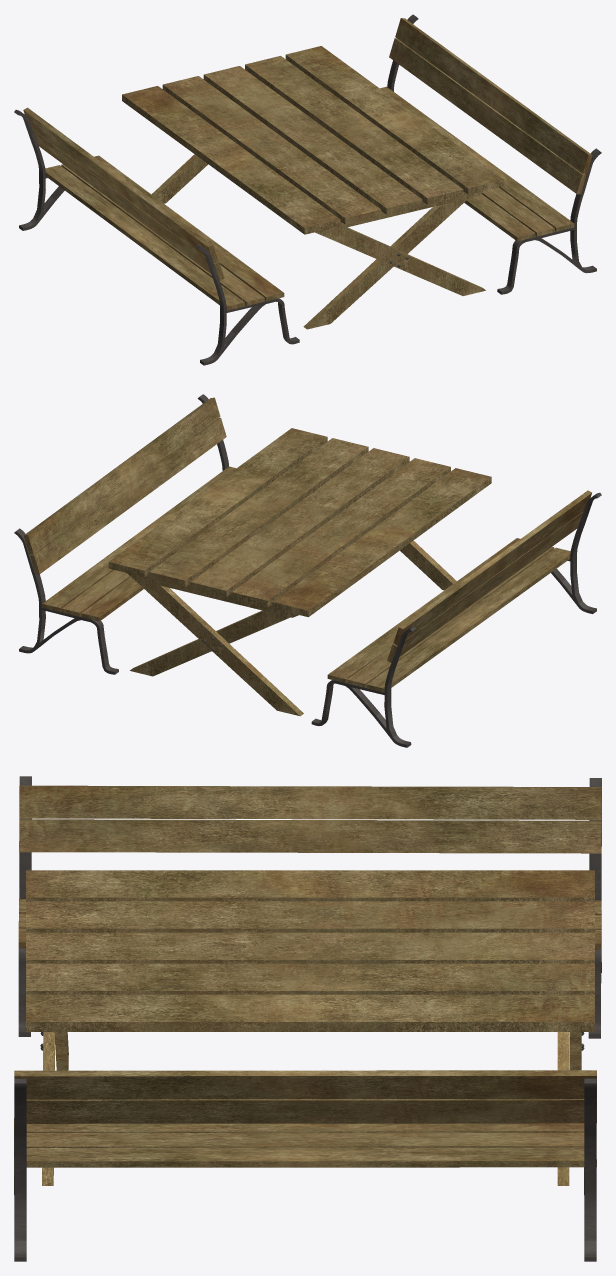
The model's file is WoodenTable.FBX.
3 views of the same model, one above another, from view 1: azimuth 30°, elevation 25°; view 2: azimuth 150°, elevation 25°; view 3: azimuth 270°, elevation 25° (orthographic). The views are drawn at different scales.
Parts seen in each view (by area): view 1: table, bench002, bench003; view 2: table, bench002, bench003; view 3: table, bench002, bench003.
Part boxes in pixels (bbox=[...]): table: bbox=[122, 46, 504, 329]; bench002: bbox=[380, 14, 601, 294]; bench003: bbox=[14, 107, 299, 365]; table: bbox=[108, 428, 491, 716]; bench002: bbox=[14, 394, 236, 674]; bench003: bbox=[311, 490, 601, 747]; table: bbox=[26, 870, 594, 1185]; bench002: bbox=[14, 1070, 596, 1261]; bench003: bbox=[18, 776, 601, 1038].
Size of the model in its own units: 716 by 205 by 583.
